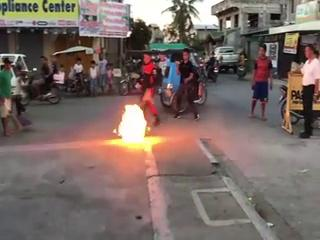Fire: (117, 99, 152, 148)
